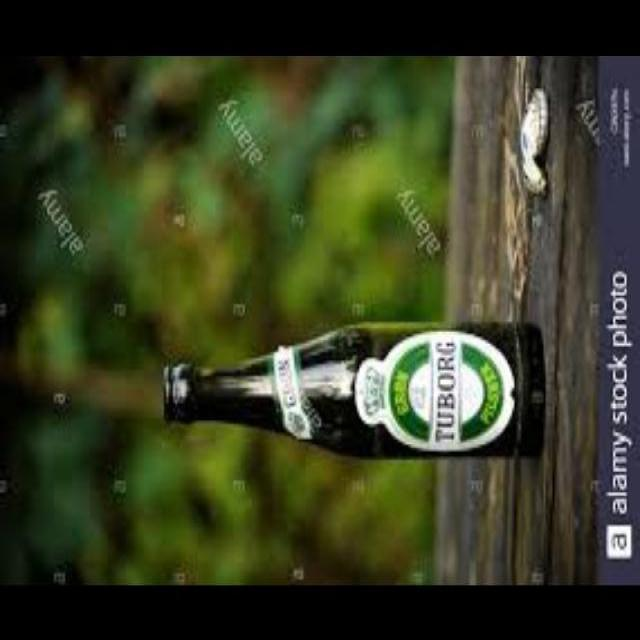Glass: (150, 312, 548, 459)
